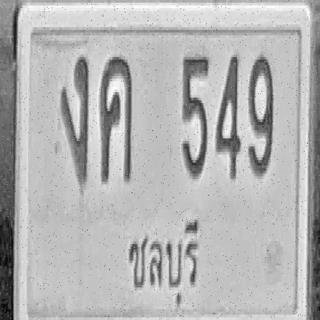A04: (100, 54, 132, 182)
A07: (61, 54, 88, 184)
N04: (216, 52, 240, 179)
N05: (182, 54, 209, 179)
N09: (248, 54, 274, 176)
P13: (123, 209, 204, 315)
